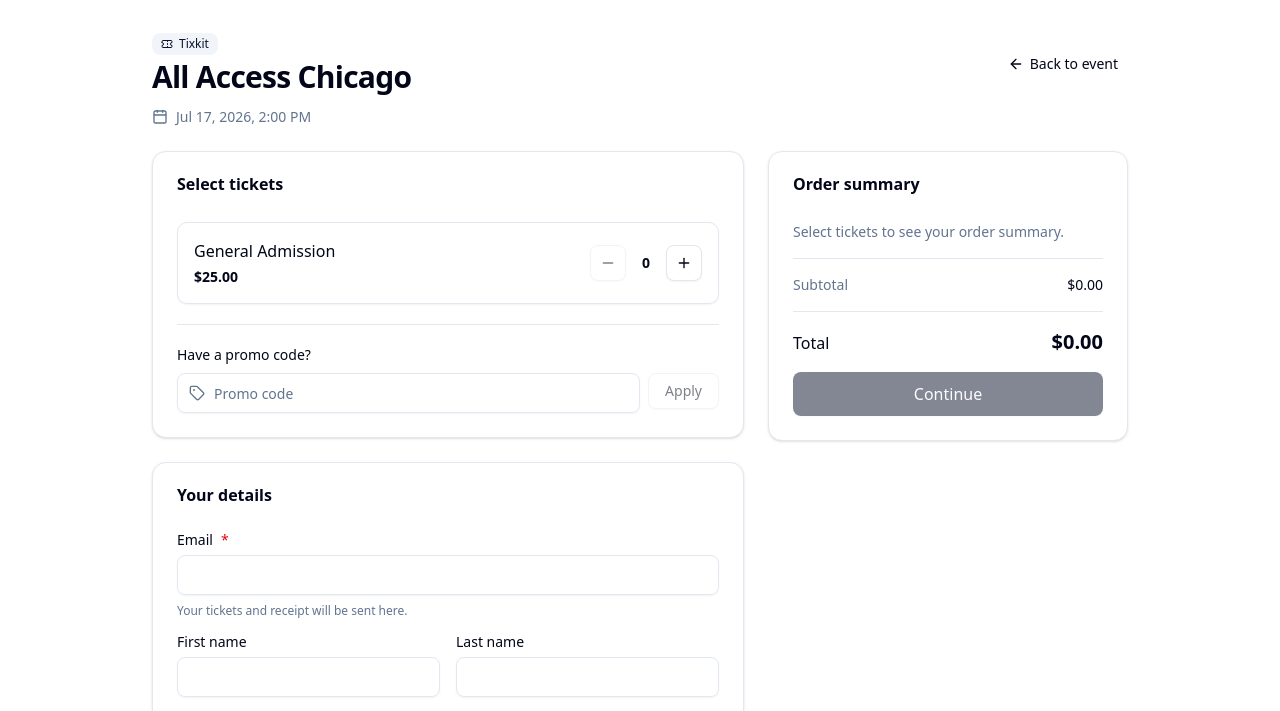
Test: CheckoutFlow buyer validation › keeps session creation single-flight during repeated activation
Check: the text "General Admission" is shown, box [194,239,335,263]
Click the button named "Increase General Admission quantity": [684, 263] box [666,245,702,281]
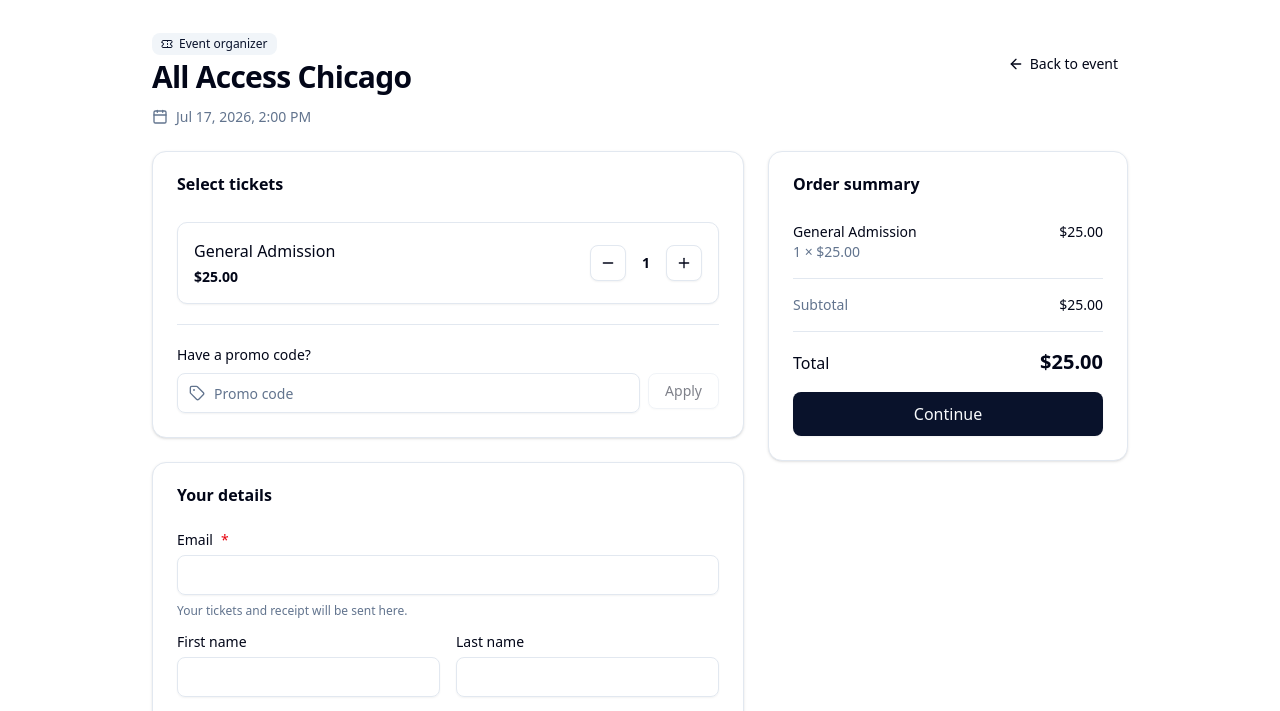
In the field labelled "Email *": [448, 575] box [177,555,719,595], type "buyer@example.com"
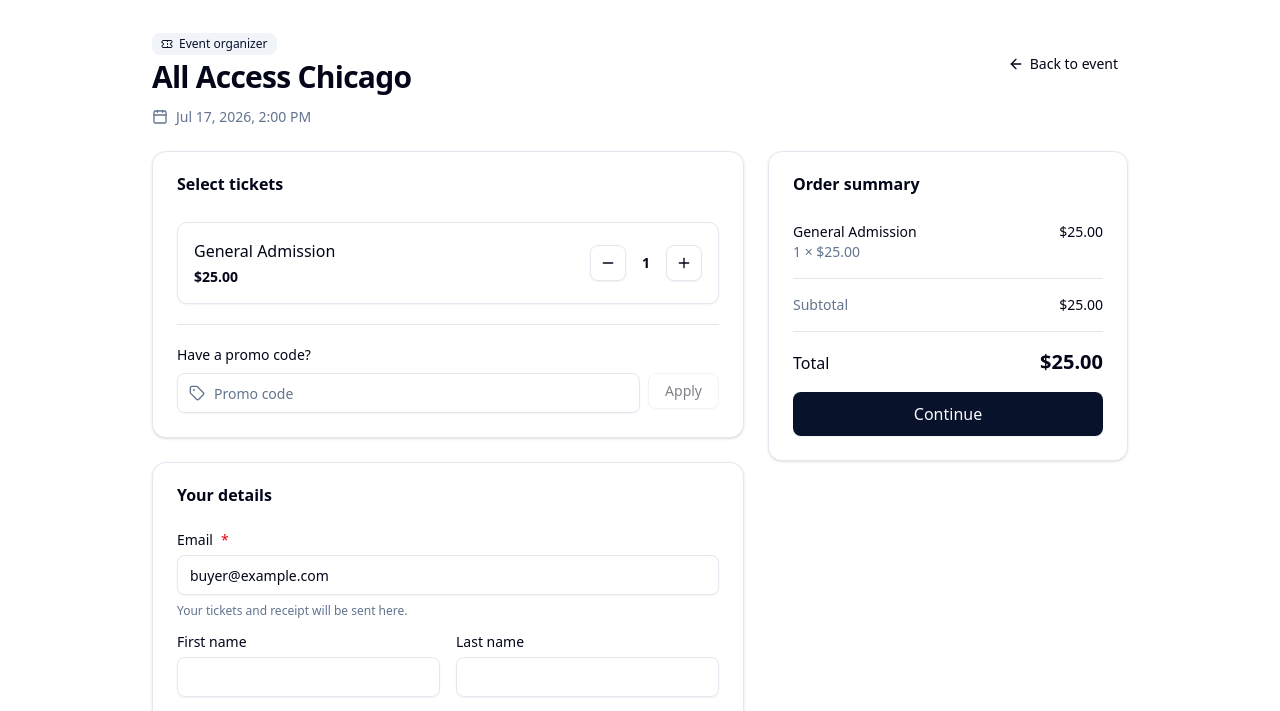
Click the button "Continue": [948, 414] box [793,392,1103,436]
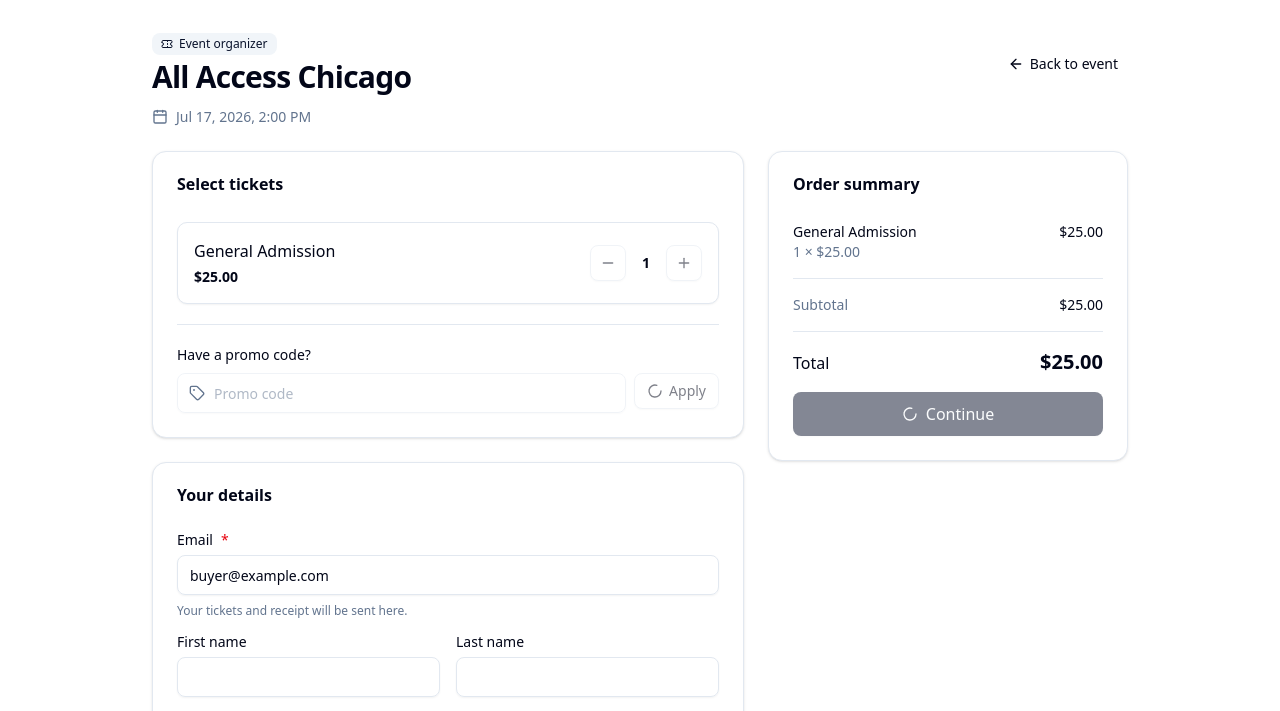
Click the button "Continue": [948, 414] box [793,392,1103,436]
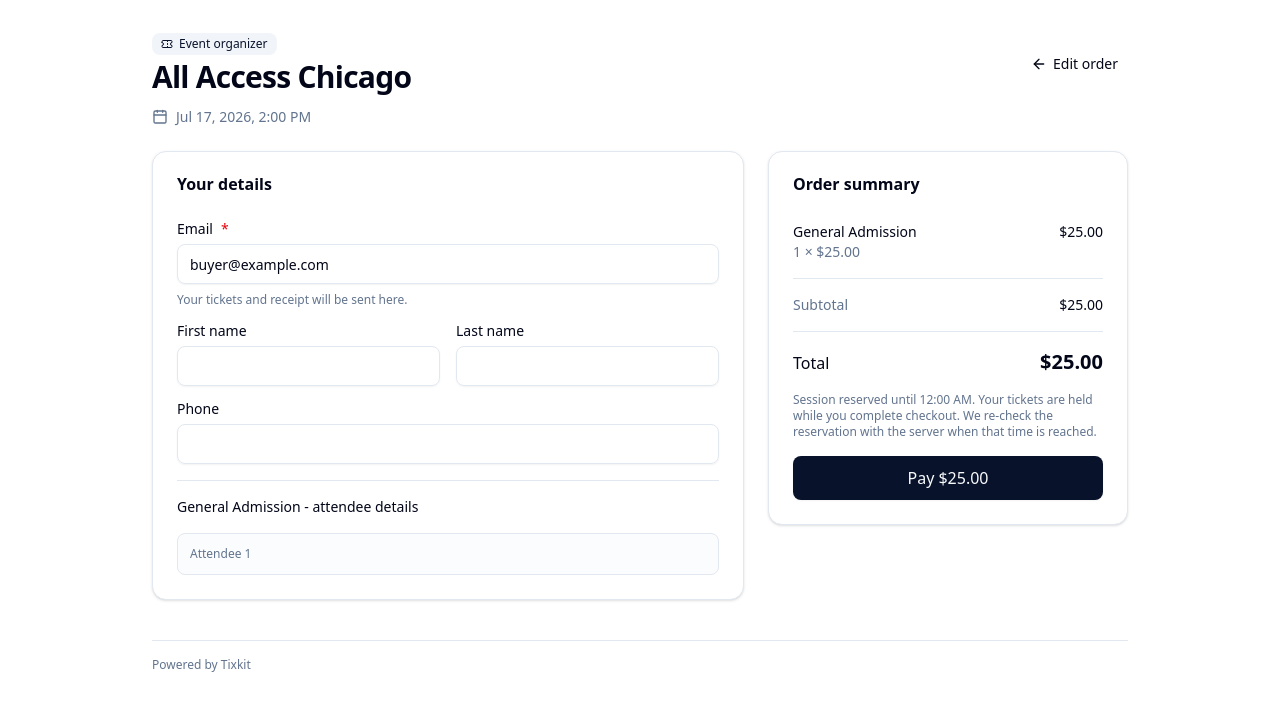
Check: the button "Pay $25.00" is shown, box [793,456,1103,500]
